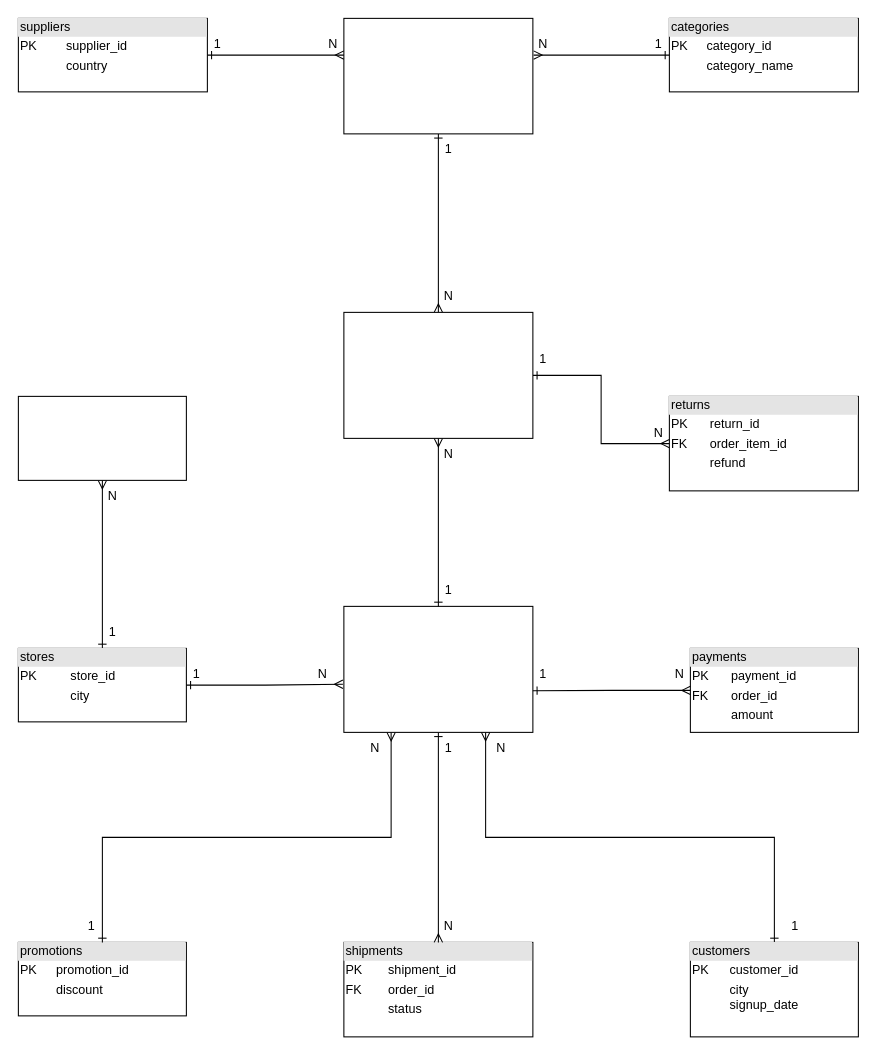
This 877x1055 diagram has some shape labels left out. The box of each missing label's shape, as (x1, y1, x2, y2) in pixels:
employees PK employee_id FK store_id salary: (17, 395, 186, 480)
order_items PK order_item_id FK order_id FK product_id qty price: (343, 311, 533, 438)
orders PK order_id FK customer_id FK store_id FK promotion_id order_date: (343, 605, 533, 732)
porducts PK product_id FK category_id FK supplier_id price: (343, 17, 533, 134)
